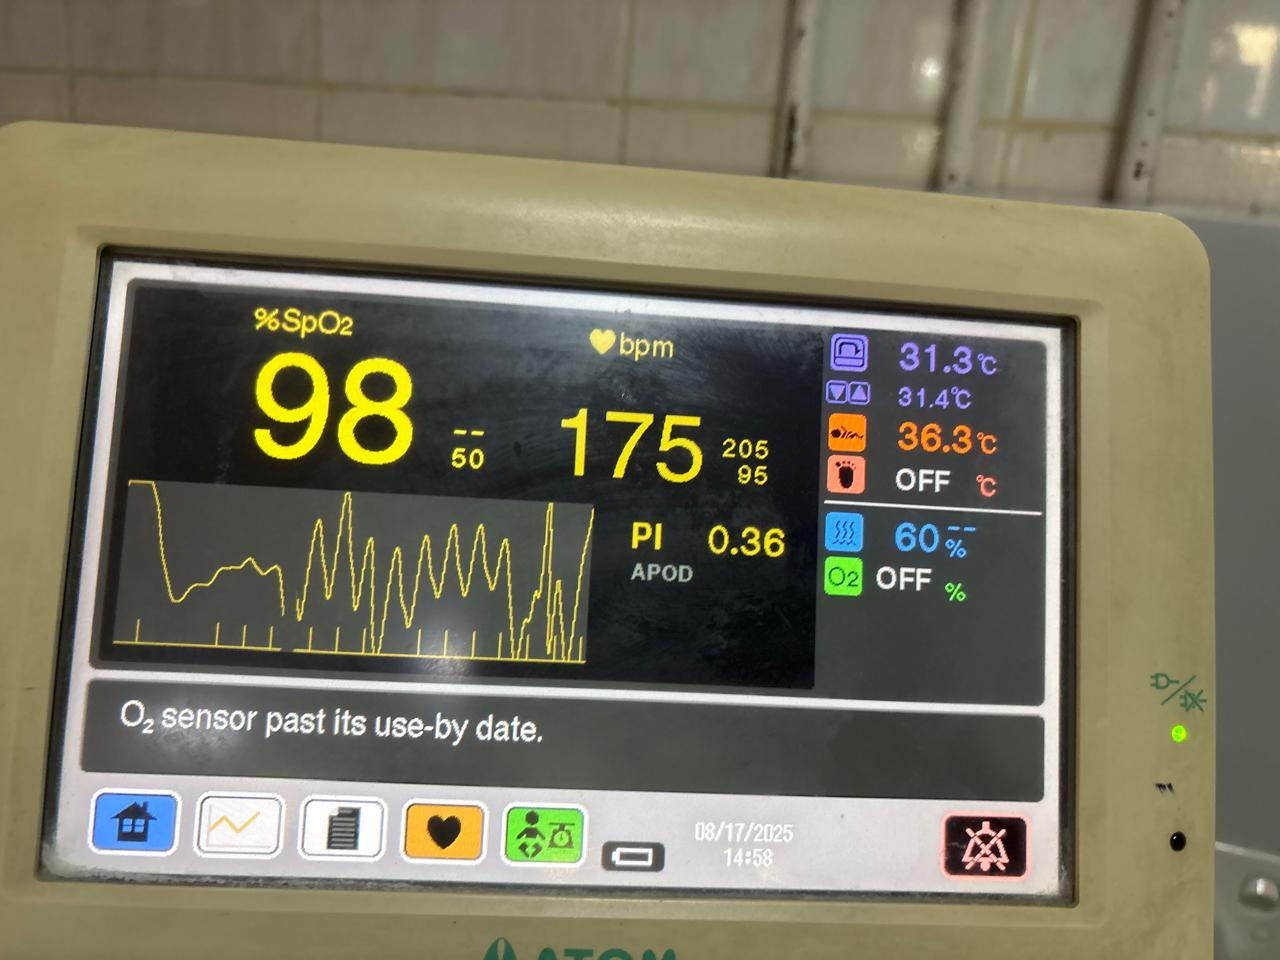heart_rate_value: (540, 390, 712, 494)
humidity_value: (884, 513, 941, 561)
skin_temp_value: (887, 408, 977, 460)
spo2_value: (238, 339, 422, 485)
